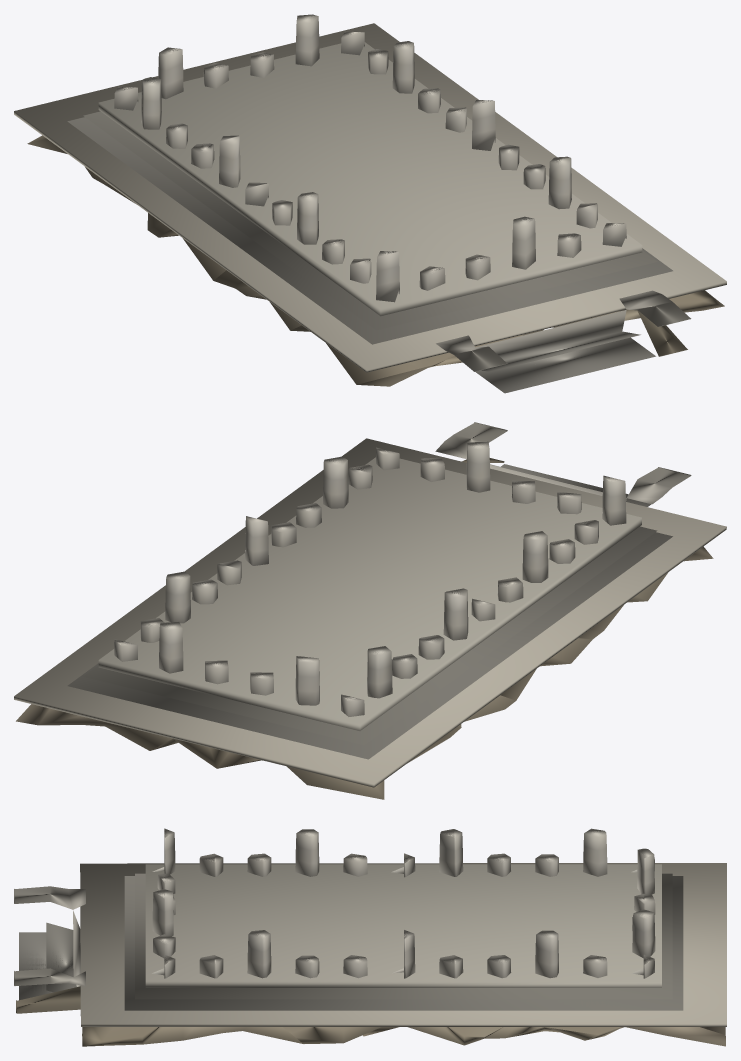
File: civic_temple-zeus_stage1.glb
The picture shows the model from 3 angles, top to bottom: view 1: azimuth 30°, elevation 25°; view 2: azimuth 150°, elevation 25°; view 3: azimuth 270°, elevation 25°; orthographic projection. The views are drawn at different scales.
Parts seen in each view (by area): view 1: step, marble, stone; view 2: step, marble, stone; view 3: step, marble, stone.
Boxes of the visible parts, x1,y1,x2,y2 form: step: [14, 23, 726, 393]; marble: [114, 14, 626, 302]; stone: [27, 135, 724, 386]; step: [14, 422, 726, 787]; marble: [114, 441, 626, 716]; stone: [16, 458, 713, 799]; step: [14, 863, 726, 1026]; marble: [152, 828, 655, 978]; stone: [16, 986, 725, 1046].
Bounding box in the file's own units: 15.1 × 3.62 × 28.25.
